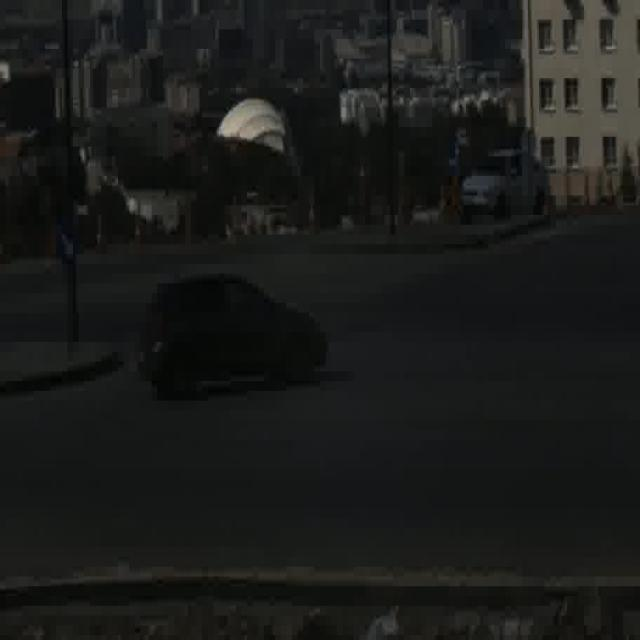Car: (139, 270, 326, 397), (462, 149, 548, 220)
